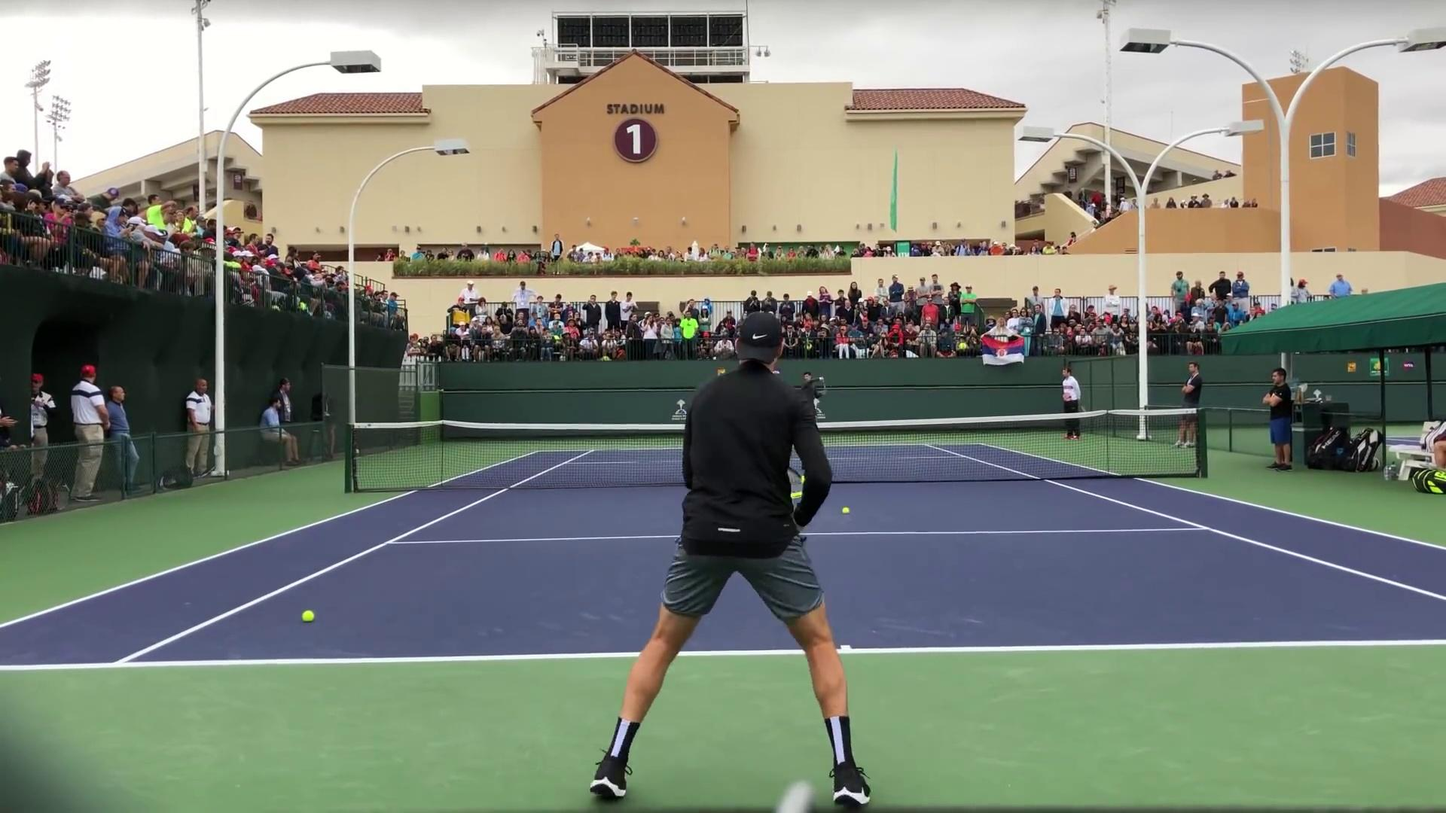ball: (300, 610, 315, 622), (842, 507, 849, 513)
